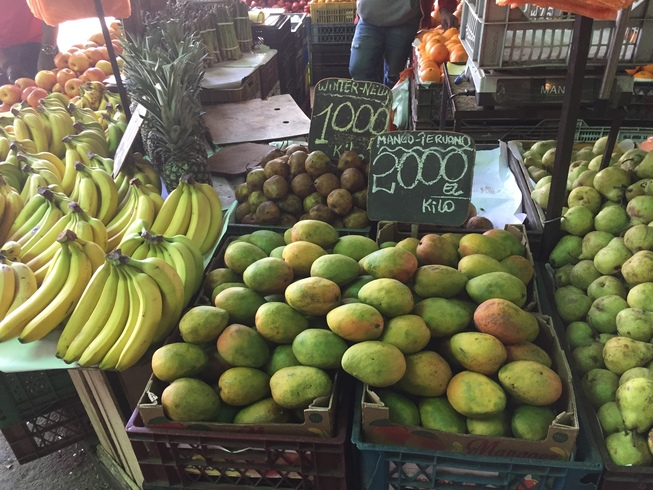precio: (368, 129, 476, 225), (311, 76, 393, 158)
